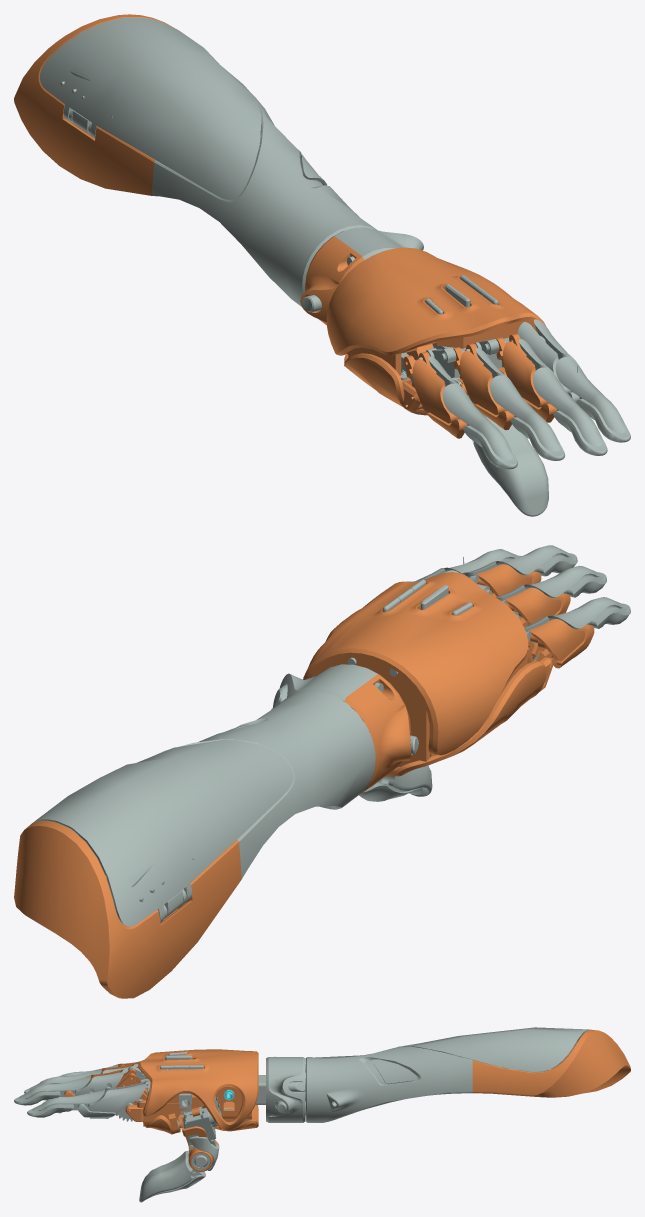
Rendered from before.glb.
3 renders of one model, top to bottom at view 1: azimuth 30°, elevation 25°; view 2: azimuth 150°, elevation 25°; view 3: azimuth 270°, elevation 25°, orthographic. The views are drawn at different scales.
Parts seen in each view (by area): view 1: /HACKberry_R_v14/R-SO_v11/R-SO-07_v2, /HACKberry_R_v14/R-H_v20/R-H-15_v2, /HACKberry_R_v14/R-SO_v11/R-SO-02_v2, /HACKberry_R_v14/R-SO_v11/R-SO-01_v2, /HACKberry_R_v14/R-H_v20/R-O_v4/R-O-01_v1 (×3), /HACKberry_R_v14/R-H_v20/R-O_v4/R-O-02_v1/SOLID (×3), /HACKberry_R_v14/R-H_v20/R-T_v4/R-T-01_v1, /HACKberry_R_v14/R-H_v20/R-H-02_v1, /HACKberry_R_v14/R-W_v6/R-W-08_v2, /HACKberry_R_v14/R-H_v20/R-I_v7/R-I-01_v1, /HACKberry_R_v14/R-W_v6/R-W-02_v2, /HACKberry_R_v14/R-H_v20/R-I_v7/R-I-02_v1 (+1 smaller); view 2: /HACKberry_R_v14/R-SO_v11/R-SO-07_v2, /HACKberry_R_v14/R-H_v20/R-H-15_v2, /HACKberry_R_v14/R-SO_v11/R-SO-01_v2, /HACKberry_R_v14/R-SO_v11/R-SO-02_v2, /HACKberry_R_v14/R-H_v20/R-H-02_v1, /HACKberry_R_v14/R-H_v20/R-O_v4/R-O-01_v1 (×3), /HACKberry_R_v14/R-W_v6/R-W-08_v2, /HACKberry_R_v14/R-H_v20/R-O_v4/R-O-02_v1/SOLID (×3), /HACKberry_R_v14/R-W_v6/R-W-02_v2, /HACKberry_R_v14/R-H_v20/R-T_v4/R-T-01_v1, /HACKberry_R_v14/R-H_v20/R-O_v4/R-O-03_v1, /HACKberry_R_v14/R-H_v20/R-I_v7/R-I-01_v1 (+1 smaller); view 3: /HACKberry_R_v14/R-SO_v11/R-SO-02_v2, /HACKberry_R_v14/R-H_v20/R-H-15_v2, /HACKberry_R_v14/R-SO_v11/R-SO-01_v2, /HACKberry_R_v14/R-SO_v11/R-SO-07_v2, /HACKberry_R_v14/R-W_v6/R-W-02_v2, /HACKberry_R_v14/R-H_v20/R-H-02_v1, /HACKberry_R_v14/R-H_v20/R-T_v4/R-T-01_v1, /HACKberry_R_v14/R-H_v20/R-O_v4/R-O-01_v1 (×2), /HACKberry_R_v14/R-H_v20/R-I_v7/R-I-01_v1, /HACKberry_R_v14/R-H_v20/R-I_v7/R-I-04_v1, /HACKberry_R_v14/R-SO_v11/R-SO-05_v2, /HACKberry_R_v14/R-H_v20/R-T_v4/ASV-15MG_v1 (+5 smaller).
Part boxes in pixels (left/top/right/bottom): /HACKberry_R_v14/R-SO_v11/R-SO-07_v2: left=40, top=17, right=261, bottom=199; /HACKberry_R_v14/R-H_v20/R-H-15_v2: left=326, top=247, right=545, bottom=385; /HACKberry_R_v14/R-SO_v11/R-SO-02_v2: left=152, top=98, right=373, bottom=306; /HACKberry_R_v14/R-SO_v11/R-SO-01_v2: left=14, top=14, right=255, bottom=195; /HACKberry_R_v14/R-H_v20/R-O_v4/R-O-01_v1 (×3): left=442, top=367, right=607, bottom=469; /HACKberry_R_v14/R-H_v20/R-O_v4/R-O-02_v1/SOLID (×3): left=412, top=341, right=548, bottom=423; /HACKberry_R_v14/R-H_v20/R-T_v4/R-T-01_v1: left=472, top=415, right=548, bottom=516; /HACKberry_R_v14/R-H_v20/R-H-02_v1: left=344, top=344, right=507, bottom=415; /HACKberry_R_v14/R-W_v6/R-W-08_v2: left=300, top=236, right=364, bottom=325; /HACKberry_R_v14/R-H_v20/R-I_v7/R-I-01_v1: left=555, top=357, right=630, bottom=442; /HACKberry_R_v14/R-W_v6/R-W-02_v2: left=333, top=227, right=423, bottom=259; /HACKberry_R_v14/R-H_v20/R-I_v7/R-I-02_v1: left=517, top=322, right=571, bottom=392; /HACKberry_R_v14/R-SO_v11/R-SO-07_v2: left=33, top=739, right=293, bottom=926; /HACKberry_R_v14/R-H_v20/R-H-15_v2: left=303, top=572, right=528, bottom=756; /HACKberry_R_v14/R-SO_v11/R-SO-01_v2: left=14, top=820, right=241, bottom=998; /HACKberry_R_v14/R-SO_v11/R-SO-02_v2: left=156, top=693, right=371, bottom=878; /HACKberry_R_v14/R-H_v20/R-H-02_v1: left=313, top=626, right=553, bottom=776; /HACKberry_R_v14/R-H_v20/R-O_v4/R-O-01_v1 (×3): left=495, top=545, right=630, bottom=629; /HACKberry_R_v14/R-W_v6/R-W-08_v2: left=344, top=674, right=411, bottom=794; /HACKberry_R_v14/R-H_v20/R-O_v4/R-O-02_v1/SOLID (×3): left=477, top=564, right=585, bottom=661; /HACKberry_R_v14/R-W_v6/R-W-02_v2: left=271, top=664, right=378, bottom=709; /HACKberry_R_v14/R-H_v20/R-T_v4/R-T-01_v1: left=359, top=765, right=432, bottom=801; /HACKberry_R_v14/R-H_v20/R-O_v4/R-O-03_v1: left=527, top=624, right=594, bottom=668; /HACKberry_R_v14/R-H_v20/R-I_v7/R-I-01_v1: left=444, top=549, right=521, bottom=573; /HACKberry_R_v14/R-SO_v11/R-SO-02_v2: left=311, top=1046, right=472, bottom=1122; /HACKberry_R_v14/R-H_v20/R-H-15_v2: left=137, top=1049, right=258, bottom=1130; /HACKberry_R_v14/R-SO_v11/R-SO-01_v2: left=460, top=1029, right=630, bottom=1097; /HACKberry_R_v14/R-SO_v11/R-SO-07_v2: left=398, top=1027, right=589, bottom=1071; /HACKberry_R_v14/R-W_v6/R-W-02_v2: left=266, top=1057, right=305, bottom=1122; /HACKberry_R_v14/R-H_v20/R-H-02_v1: left=125, top=1080, right=258, bottom=1134; /HACKberry_R_v14/R-H_v20/R-T_v4/R-T-01_v1: left=139, top=1151, right=205, bottom=1202; /HACKberry_R_v14/R-H_v20/R-O_v4/R-O-01_v1 (×2): left=14, top=1068, right=101, bottom=1105; /HACKberry_R_v14/R-H_v20/R-I_v7/R-I-01_v1: left=27, top=1089, right=104, bottom=1117; /HACKberry_R_v14/R-H_v20/R-I_v7/R-I-04_v1: left=88, top=1084, right=146, bottom=1112; /HACKberry_R_v14/R-SO_v11/R-SO-05_v2: left=372, top=1059, right=417, bottom=1084; /HACKberry_R_v14/R-H_v20/R-T_v4/ASV-15MG_v1: left=183, top=1106, right=217, bottom=1144.
Size of the model in its own units: 0.0869 by 0.1305 by 0.4691.
